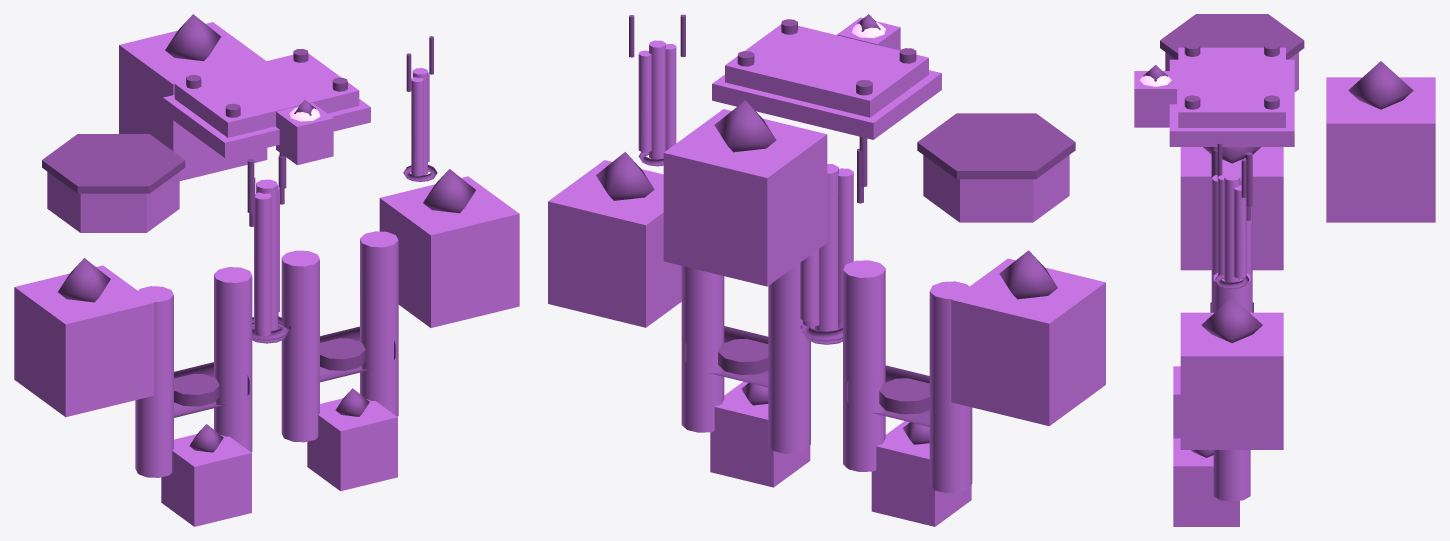
The model's file is golem_015.glb.
3 renders of one model, left to right at view 1: azimuth 30°, elevation 25°; view 2: azimuth 150°, elevation 25°; view 3: azimuth 270°, elevation 25°, orthographic. The views are drawn at different scales.
Parts seen in each view (by area): view 1: Body, Detail; view 2: Body, Detail; view 3: Body, Detail.
Boxes of the visible parts, <box> form: Body: <box>14,22,519,526</box>; Detail: <box>42,14,475,452</box>; Body: <box>548,17,1105,526</box>; Detail: <box>596,14,1075,444</box>; Body: <box>1134,47,1435,526</box>; Detail: <box>1143,14,1413,457</box>.
Size of the model in its own units: 1.35 by 1.18 by 0.7723.
